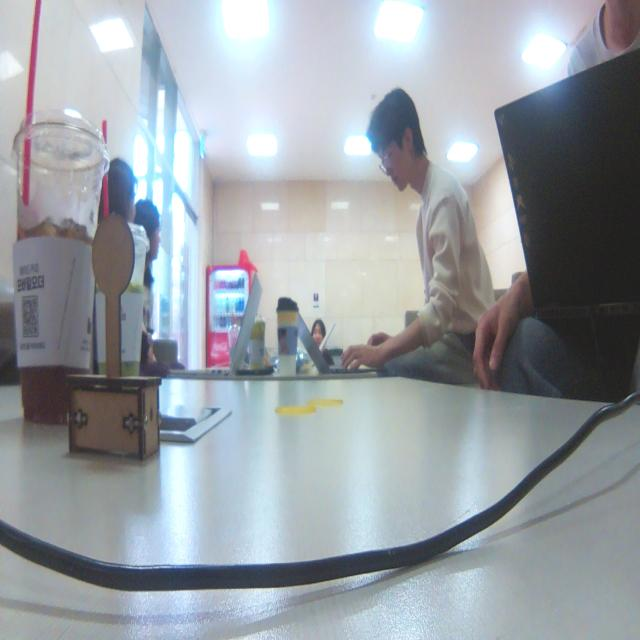target: (63, 210, 164, 463)
